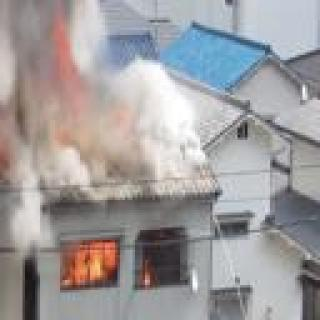fire: (42, 64, 127, 158), (65, 230, 143, 295), (0, 235, 15, 320)
